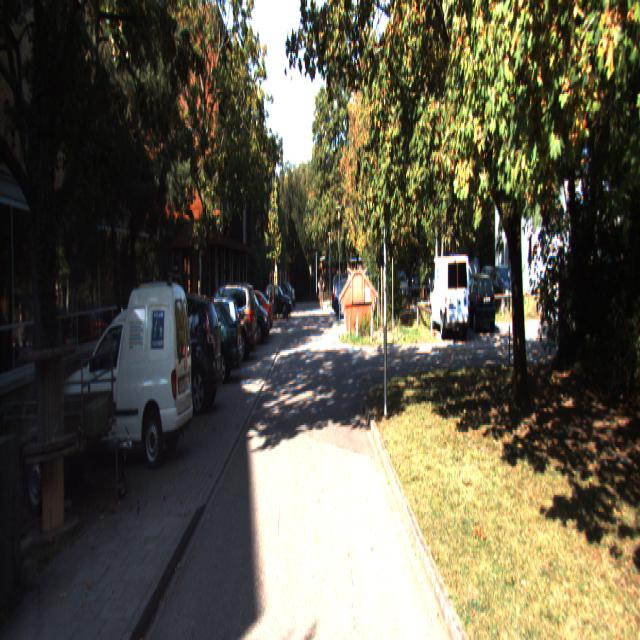Car: (62, 275, 195, 473), (123, 289, 224, 419), (167, 298, 244, 386), (190, 282, 258, 365), (185, 294, 242, 373), (428, 253, 471, 341), (460, 270, 498, 334)
